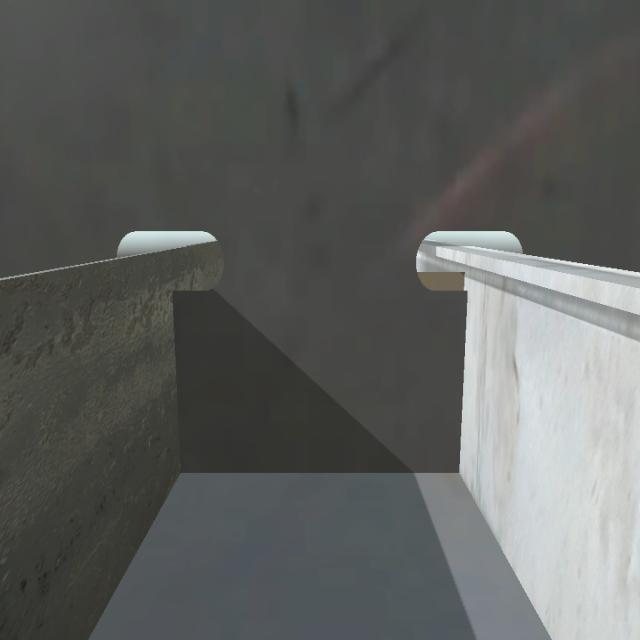fillet_yong_jeop_jang: (177, 462, 466, 482), (166, 286, 191, 478), (456, 267, 470, 481)
plate_behind: (413, 265, 466, 297)
